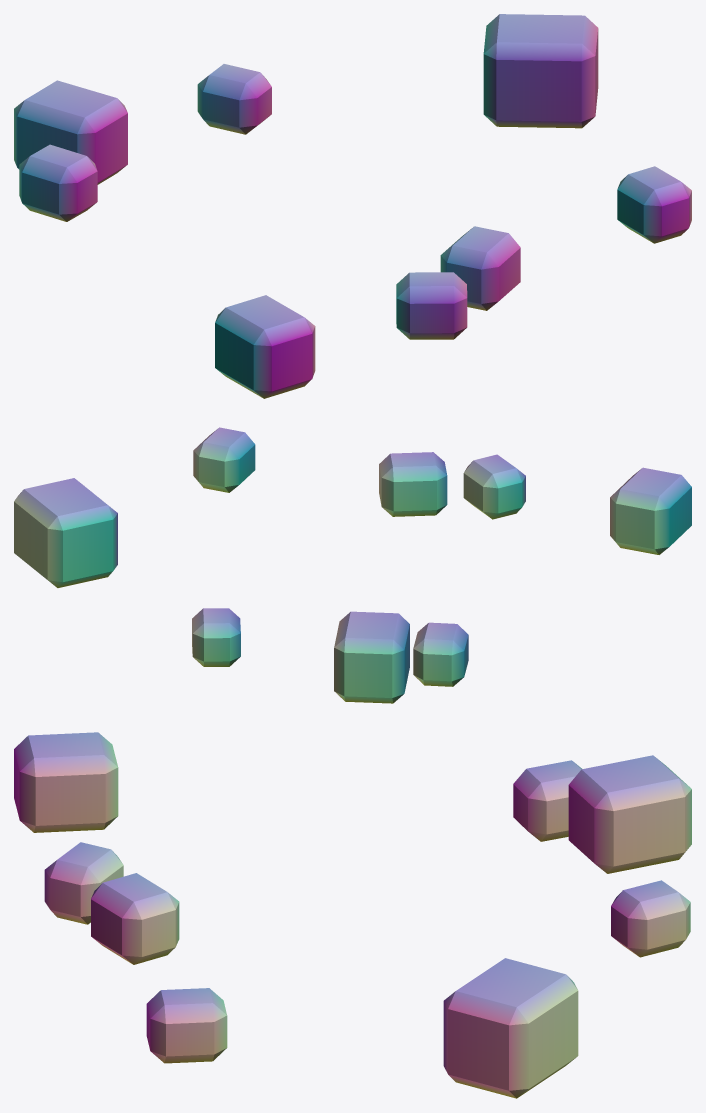
The model's file is env_deco_crumbs.glb.
3 renders of one model, top to bottom at view 1: azimuth 30°, elevation 25°; view 2: azimuth 150°, elevation 25°; view 3: azimuth 270°, elevation 25°, orthographic. The views are drawn at different scales.
Parts seen in each view (by area): view 1: env_deco_crumbs_mesh; view 2: env_deco_crumbs_mesh; view 3: env_deco_crumbs_mesh.
Part boxes in pixels (box(x1,y1,x2,y2)): env_deco_crumbs_mesh: box(14, 14, 691, 398); env_deco_crumbs_mesh: box(14, 427, 691, 703); env_deco_crumbs_mesh: box(14, 732, 691, 1098).
Size of the model in its own units: 0.3004 by 0.0423 by 0.2843.
